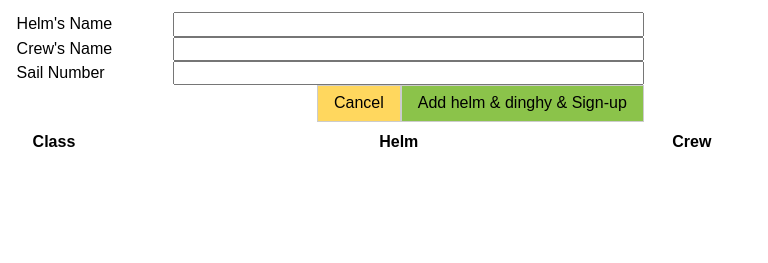
Test: when helm does not exist › when add helm and sign-up button clicked › when helm not created › displays failure message and entered values remain on form
This screenshot has width=768, height=263.
In the field labelled "Helm's Name": (409, 24) [173,12,644,37], type "Not There"
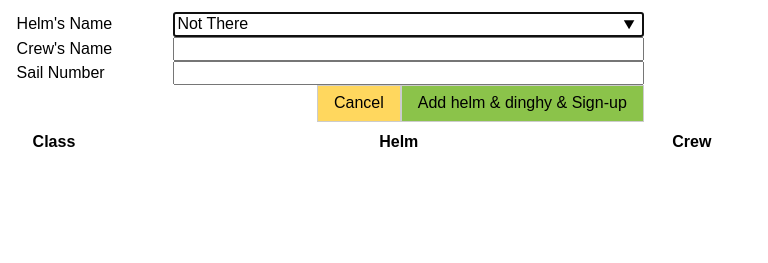
In the field labelled "Sail Number": (409, 73) [173,61,644,85], type "1234"
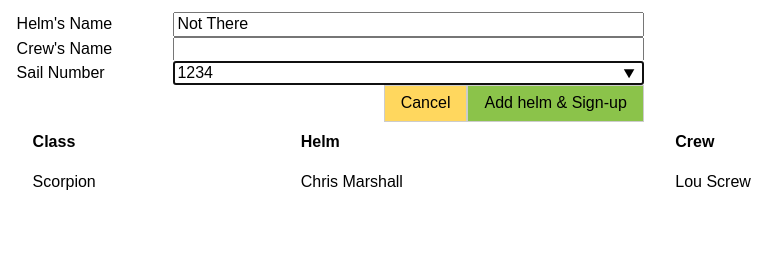
In the field labelled "Crew's Name": (409, 49) [173,36,644,61], type "Lou Screw"
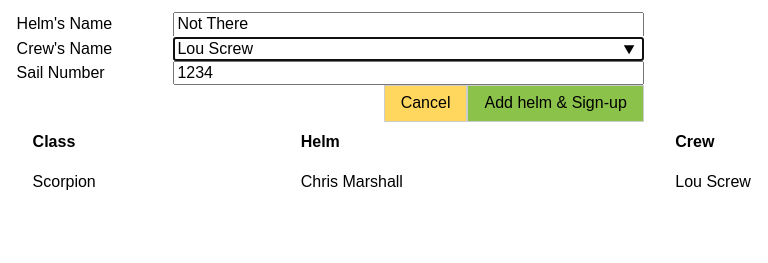
Click the button "Add helm & Sign-up": (556, 104) [468,85,644,122]
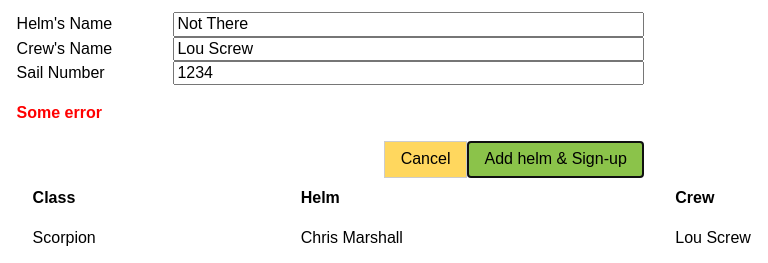
expect the text "Some error" is shown: met, box [17,104,102,121]
